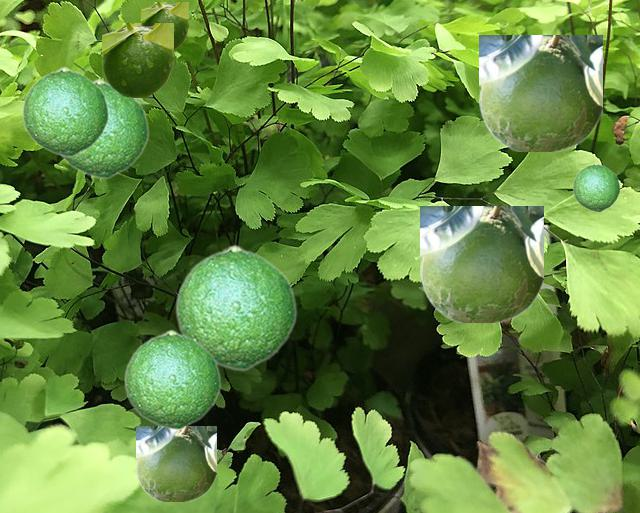dalandan: (174, 244, 296, 370), (479, 35, 601, 150), (420, 206, 542, 321), (123, 329, 220, 429), (58, 78, 148, 178), (21, 66, 108, 156), (136, 426, 215, 500), (102, 23, 172, 97), (572, 162, 619, 211), (141, 2, 187, 51)
